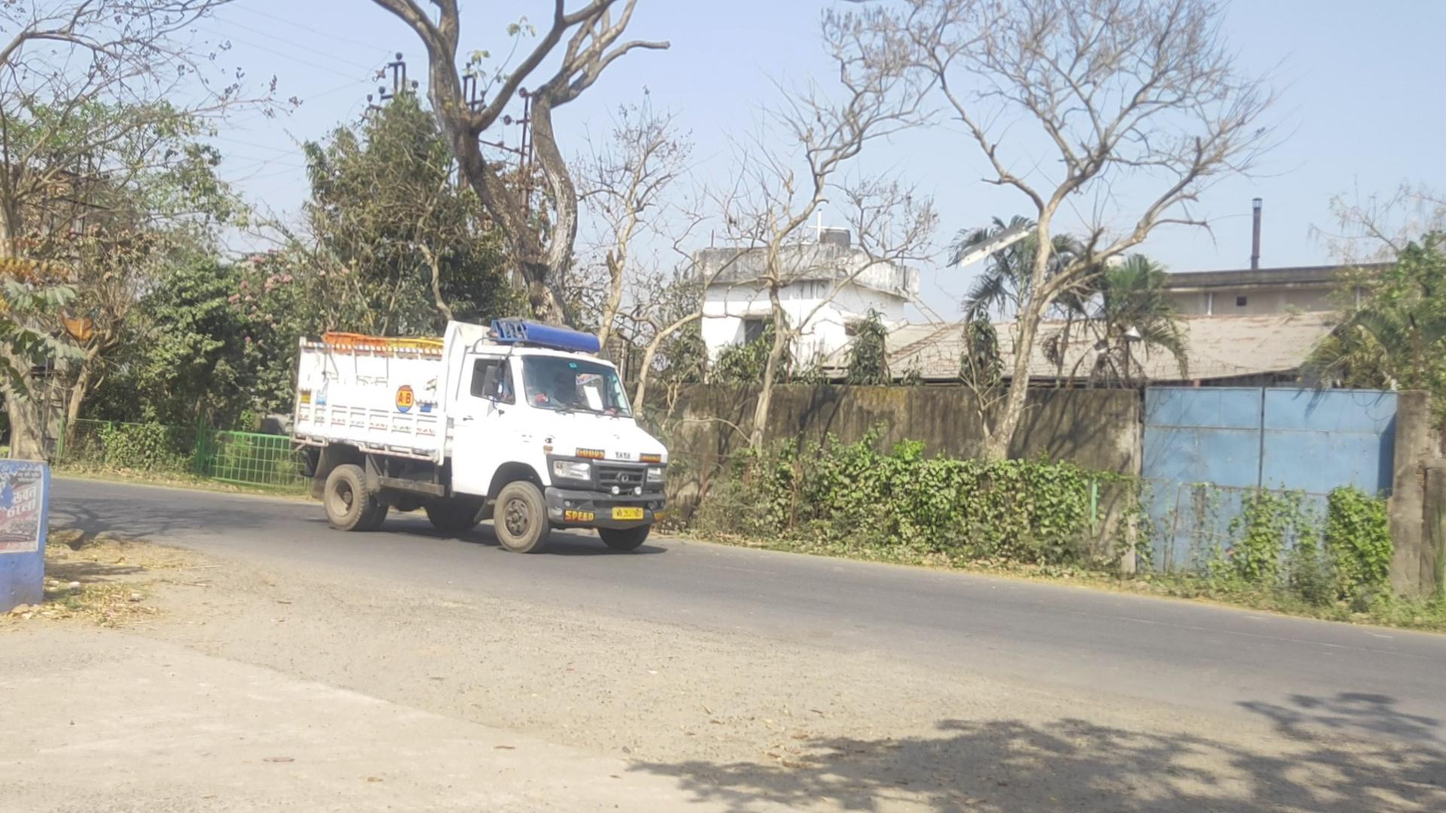truck: (291, 317, 667, 556)
